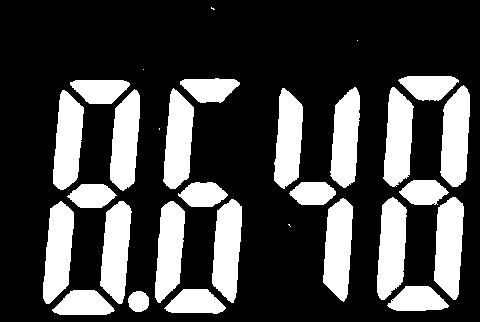4: (269, 85, 362, 307)
6: (155, 77, 251, 319)
8: (39, 75, 141, 317), (376, 74, 473, 312)
dot: (128, 289, 151, 315)
